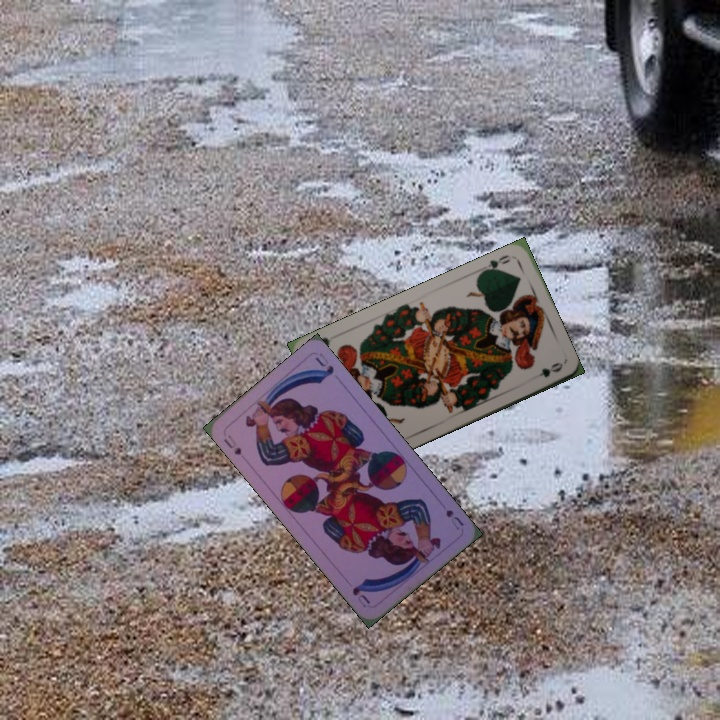GO: (478, 250, 512, 275)
SU: (219, 431, 244, 458), (442, 506, 466, 532)
